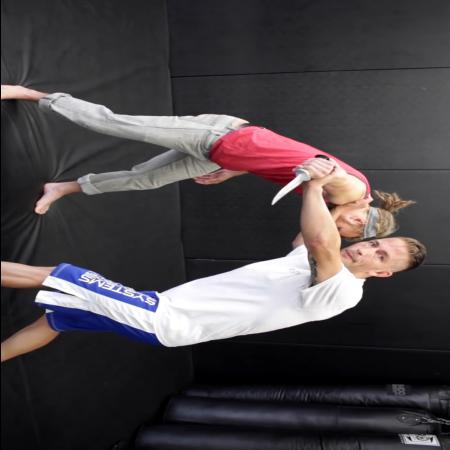long weapon: (264, 152, 332, 208)
